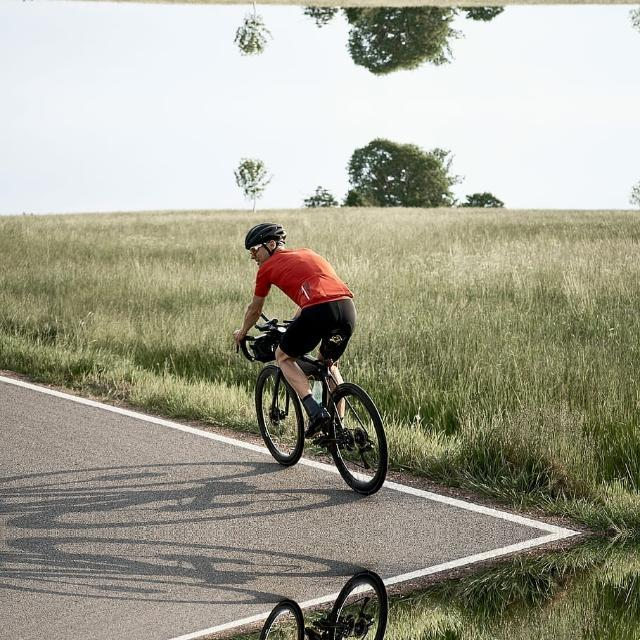obstacle: (204, 296, 416, 502), (204, 563, 416, 640)
